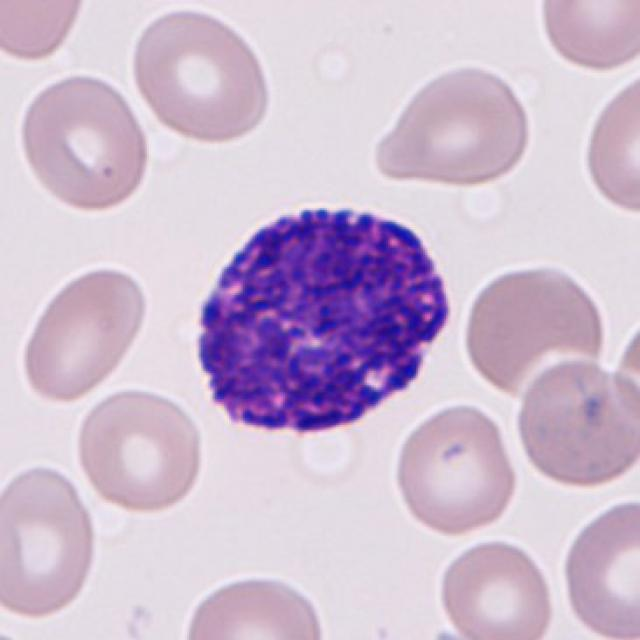Basophil: (182, 187, 465, 444)
RBC: (367, 59, 537, 189), (460, 257, 610, 399), (128, 4, 274, 146), (14, 69, 154, 215), (18, 262, 152, 406), (390, 399, 523, 538), (72, 383, 208, 515), (511, 356, 636, 492), (0, 458, 101, 623), (433, 534, 558, 640), (556, 494, 638, 640), (177, 567, 331, 640), (276, 394, 374, 494), (579, 66, 640, 218), (535, 0, 638, 75), (0, 0, 91, 66), (610, 312, 640, 436)
